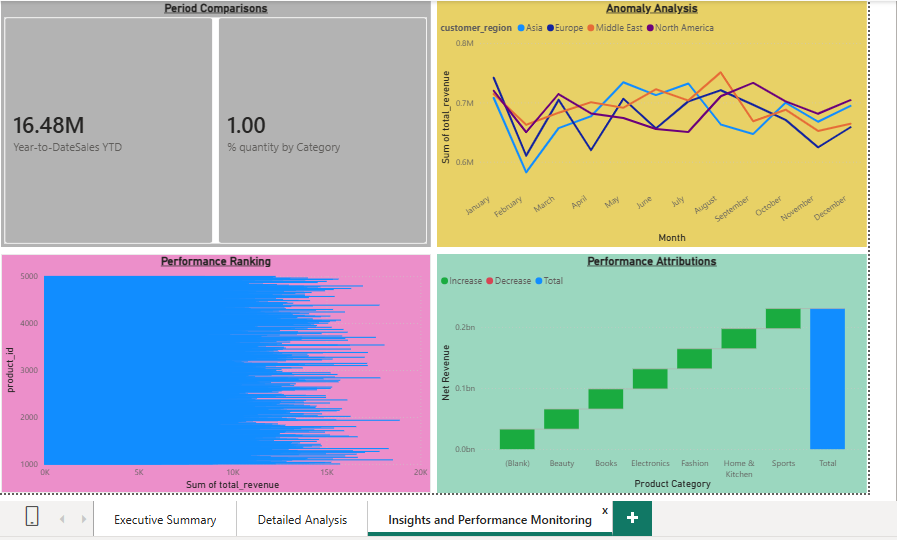

This screenshot's page, from the dashboard's own definition file:
{"tool":"powerbi","page":{"name":"Insights and Performance Monitoring","canvas":[1280,720],"ordinal":2},"visuals":[{"type":"cardVisual","title":"Period Comparisons","fields":{"Data":["Fact_Sales.Year-to-DateSales YTD","Fact_Sales.% quantity by Category"]},"box":[10.2,0,629.3,360],"z":0},{"type":"clusteredBarChart","title":"Performance Ranking","fields":{"Category":["Fact_Sales.product_id"],"Y":["Sum(Fact_Sales.total_revenue)"]},"box":[10,370,629,350],"z":1},{"type":"lineChart","title":"Anomaly Analysis","fields":{"Category":["Fact_Sales.order_date.Variation.Date Hierarchy.Month"],"Y":["Sum(Fact_Sales.total_revenue)"],"Series":["Dim_Region.customer_region"]},"box":[649,0,629,360],"z":2},{"type":"waterfallChart","title":"Performance Attributions","fields":{"Category":["Dim_Category.Product Category"],"Y":["Fact_Sales.Net Revenue"]},"box":[649,370,629,350],"z":3}]}

Visuals, with their boxes on the page's 1280x720 design canvas (x1, y1, x2, y2). These are canvas units, not pixel positions in the 897x540 screenshot, which may show the page scaled, cropped or inside an application window:
"Period Comparisons" cardVisual: 10/0/640/360
"Performance Ranking" clusteredBarChart: 10/370/639/720
"Anomaly Analysis" lineChart: 649/0/1278/360
"Performance Attributions" waterfallChart: 649/370/1278/720
